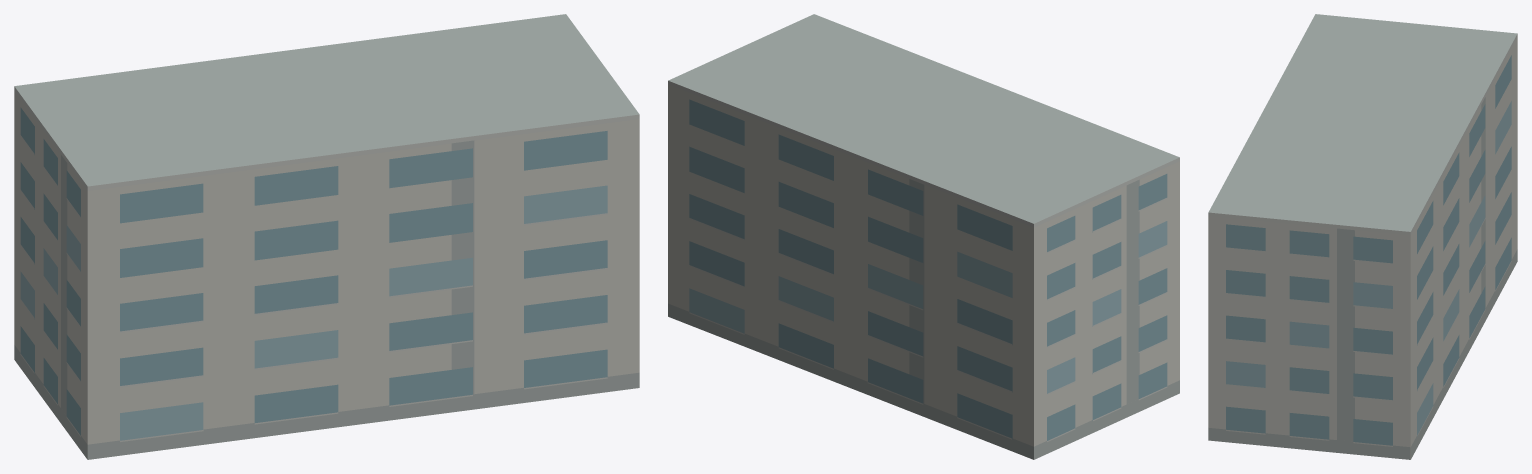
File: residential-b303f963-ae24-4327-90d4-9ac7df8fc2ae.glb
3 renders of one model, left to right at view 1: azimuth 30°, elevation 25°; view 2: azimuth 150°, elevation 25°; view 3: azimuth 270°, elevation 25°, orthographic. The views are drawn at different scales.
Parts seen in each view (by area): view 1: residential-b303f963-ae24-4327-90d4-9ac7df8fc2ae.tmp; view 2: residential-b303f963-ae24-4327-90d4-9ac7df8fc2ae.tmp; view 3: residential-b303f963-ae24-4327-90d4-9ac7df8fc2ae.tmp.
Part boxes in pixels (box(x1,y1,x2,y2)): residential-b303f963-ae24-4327-90d4-9ac7df8fc2ae.tmp: box(14, 14, 639, 459); residential-b303f963-ae24-4327-90d4-9ac7df8fc2ae.tmp: box(668, 14, 1179, 459); residential-b303f963-ae24-4327-90d4-9ac7df8fc2ae.tmp: box(1208, 14, 1517, 459).
Bounding box in the file's own units: 31.28 × 15.25 × 18.76.
